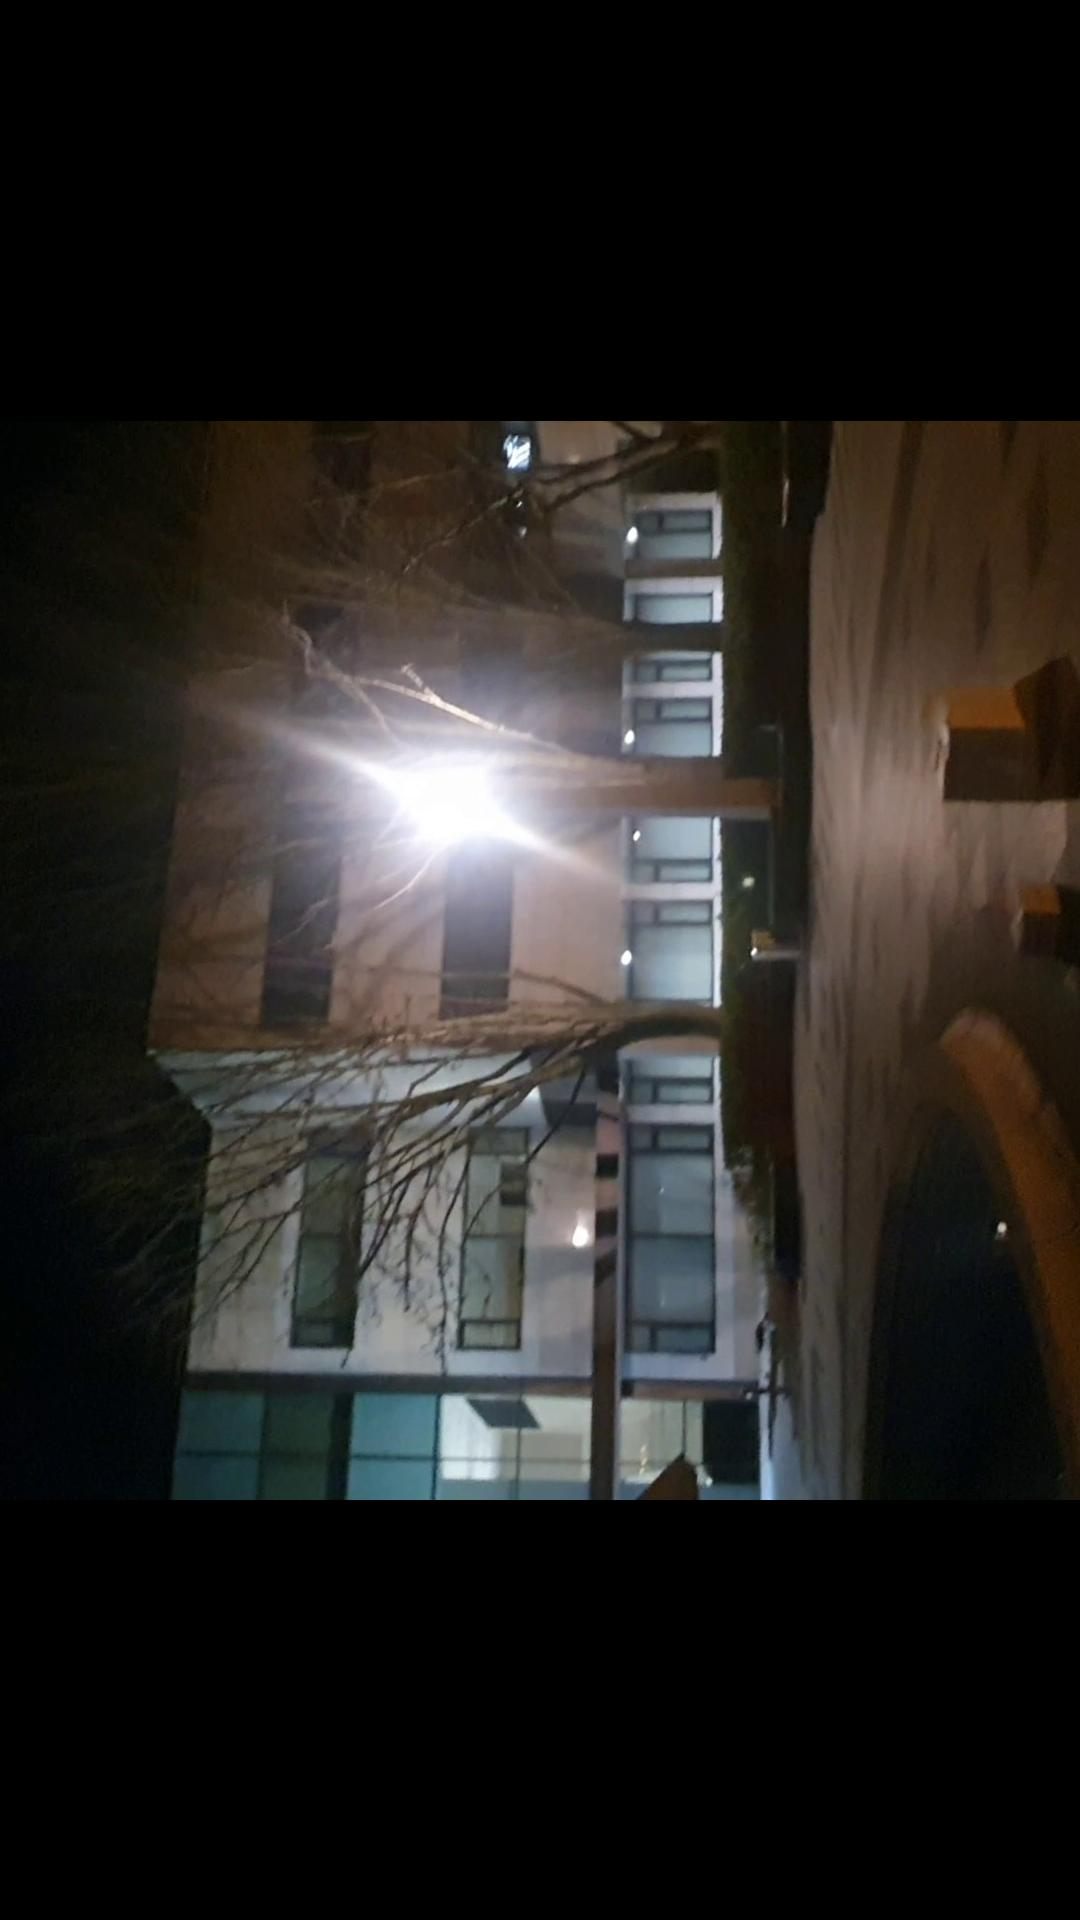Box: (920, 683, 1080, 807), (996, 880, 1080, 967)
